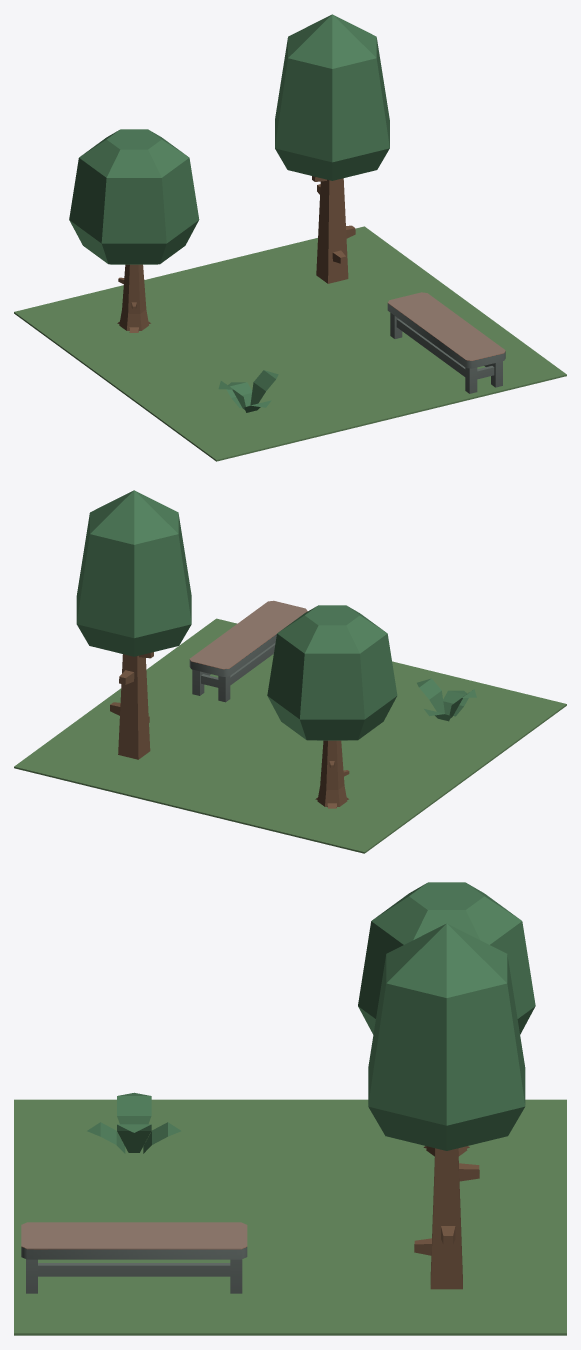
Rendered from facility-park.glb.
The picture shows the model from 3 angles, top to bottom: view 1: azimuth 30°, elevation 25°; view 2: azimuth 150°, elevation 25°; view 3: azimuth 270°, elevation 25°; orthographic projection. The views are drawn at different scales.
Parts seen in each view (by area): view 1: Original box, tree_default, tree_oak, stall-bench, plant_bush; view 2: Original box, tree_default, tree_oak, stall-bench, plant_bush; view 3: Original box, tree_default, stall-bench, tree_oak, plant_bush.
Part boxes in pixels (bbox=[...]): Original box: bbox=[14, 226, 566, 461]; tree_default: bbox=[275, 14, 389, 283]; tree_oak: bbox=[69, 129, 199, 332]; stall-bench: bbox=[387, 292, 505, 393]; plant_bush: bbox=[218, 370, 278, 412]; Original box: bbox=[14, 618, 566, 853]; tree_default: bbox=[76, 490, 191, 759]; tree_oak: bbox=[267, 605, 397, 808]; stall-bench: bbox=[189, 600, 307, 702]; plant_bush: bbox=[417, 678, 476, 721]; Original box: bbox=[14, 1099, 566, 1335]; tree_default: bbox=[368, 923, 525, 1289]; stall-bench: bbox=[21, 1222, 247, 1293]; tree_oak: bbox=[358, 882, 535, 1156]; plant_bush: bbox=[87, 1092, 181, 1153].
Bounding box in the file's own units: 2.3 × 1.71 × 2.3.
4 materials, 1 textured.
